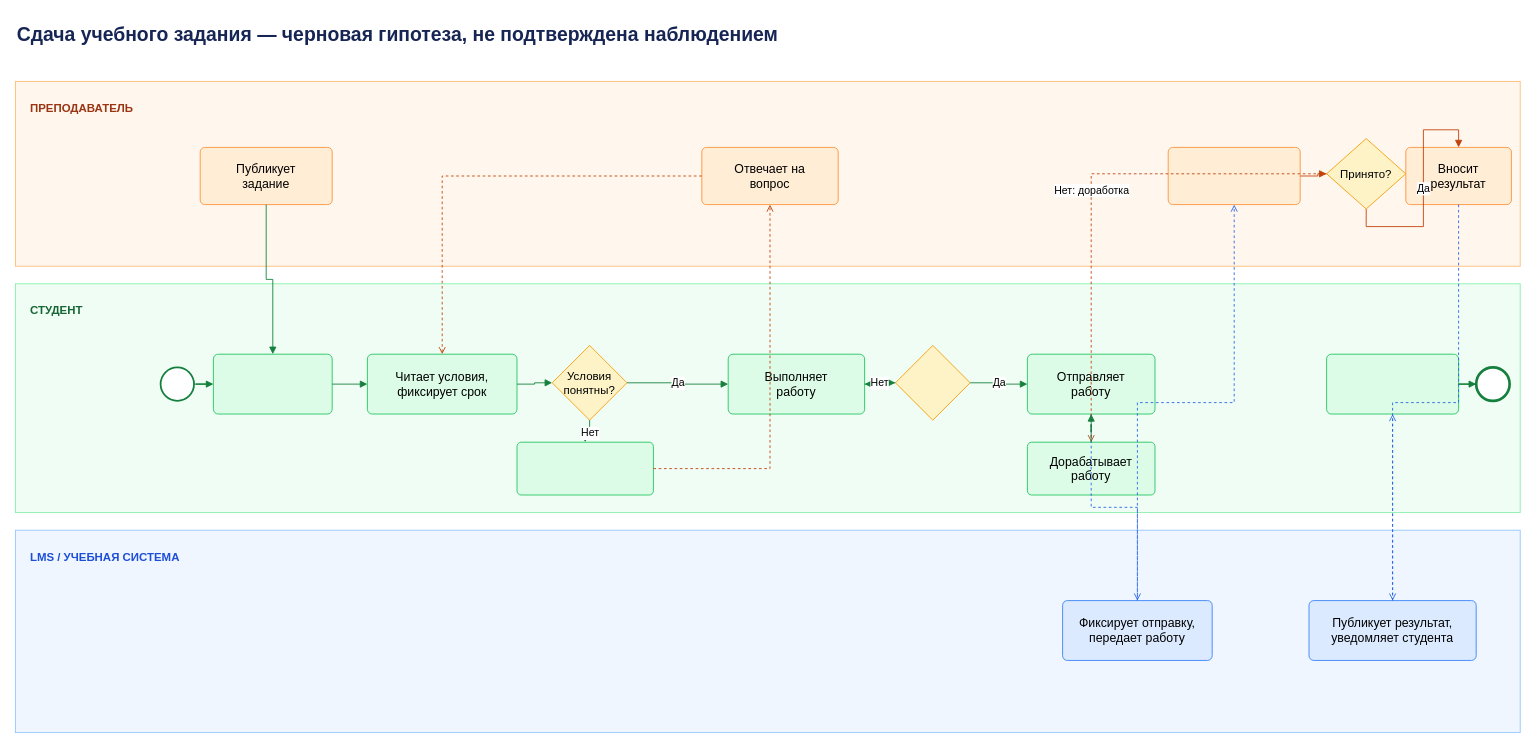
Some shapes in this 1536 by 748 pixel diagram are drawn without their labels. Here are the shapes that lost their labels. From the top down, the centre of each, then its label:
At pixel 1233 176: "Проверяет работу".
At pixel 272 383: "Получает задание".
At pixel 932 382: "Готово к сдаче?".
At pixel 1392 383: "Просматривает результат".
At pixel 584 468: "Запрашивает уточнение".
